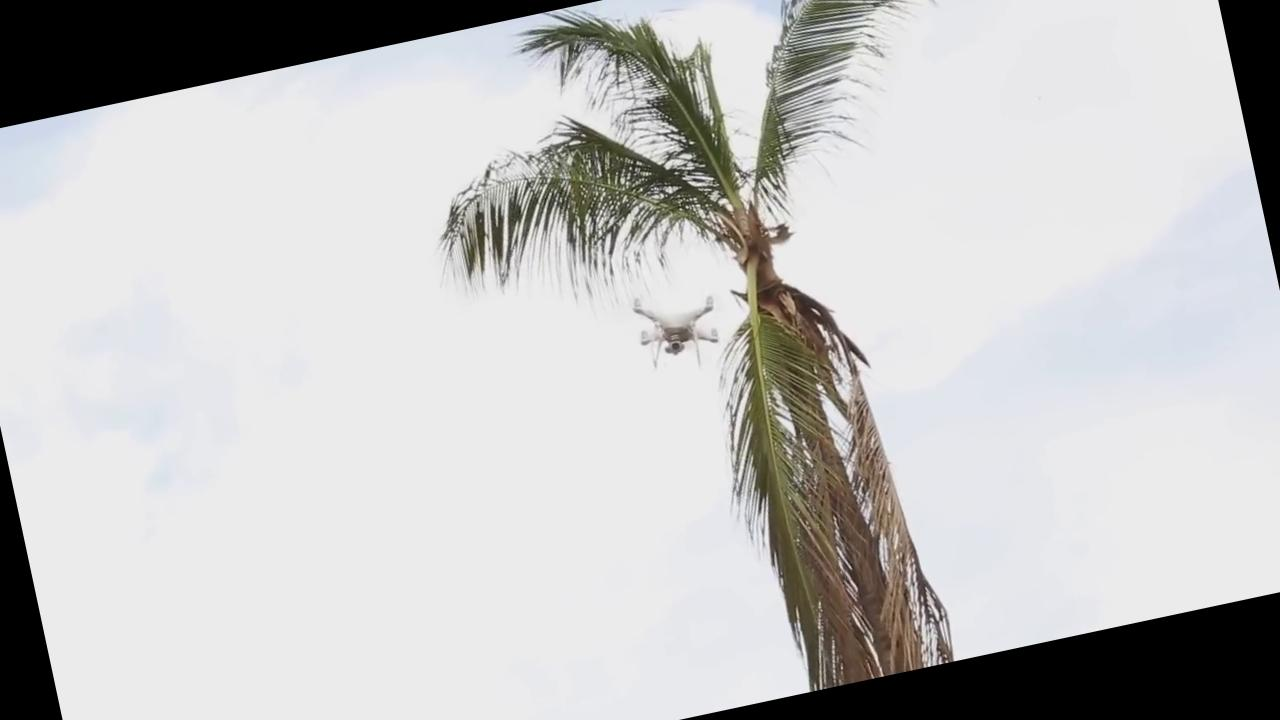drone: (616, 275, 729, 382)
